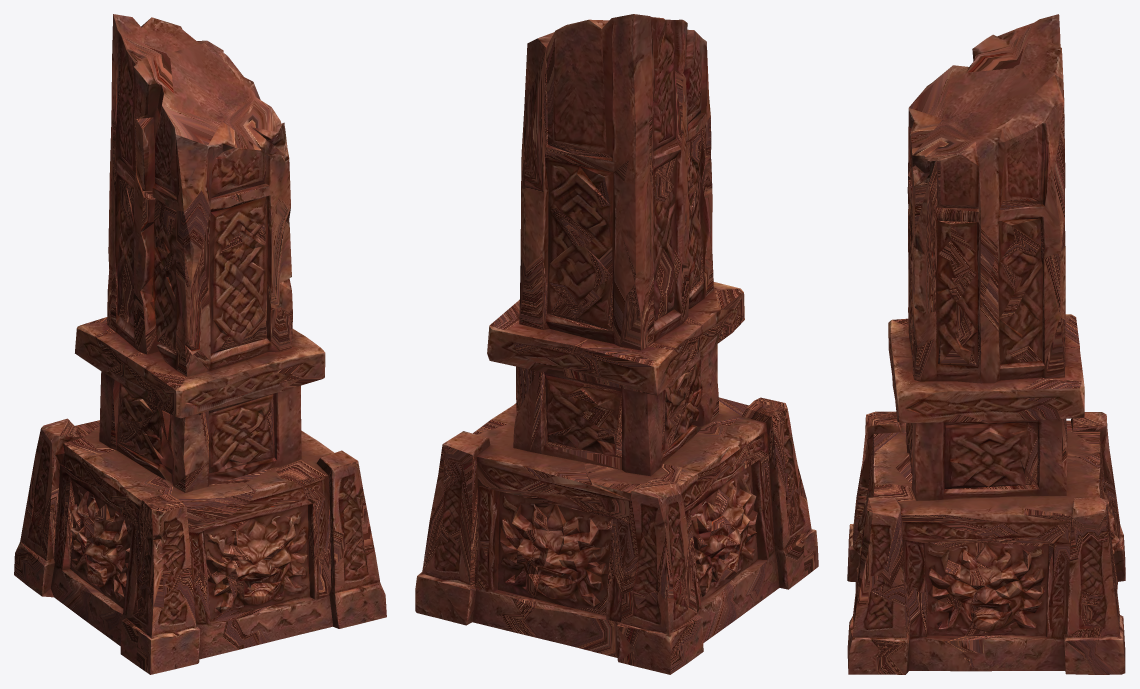
File: prop_obelisk.8c1c4b63.glb
The picture shows the model from 3 angles, left to right: view 1: azimuth 30°, elevation 25°; view 2: azimuth 150°, elevation 25°; view 3: azimuth 270°, elevation 25°; orthographic projection. The views are drawn at different scales.
Parts seen in each view (by area): view 1: tripo_node_e028339b-f33c-4079-aa77-b134f494b766; view 2: tripo_node_e028339b-f33c-4079-aa77-b134f494b766; view 3: tripo_node_e028339b-f33c-4079-aa77-b134f494b766.
Part boxes in pixels (x1,y1,x2,y2): tripo_node_e028339b-f33c-4079-aa77-b134f494b766: (14, 14, 386, 674); tripo_node_e028339b-f33c-4079-aa77-b134f494b766: (415, 14, 818, 674); tripo_node_e028339b-f33c-4079-aa77-b134f494b766: (847, 14, 1125, 674).
Size of the model in its own units: 3.08 by 7.01 by 3.07.
1 material, 1 textured.
